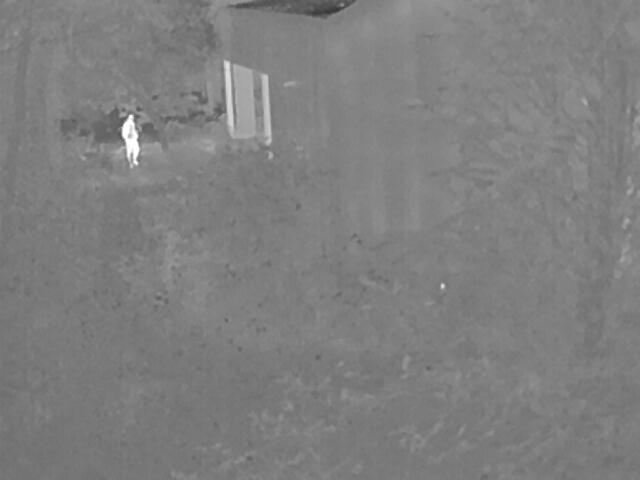person: (119, 112, 138, 166)
